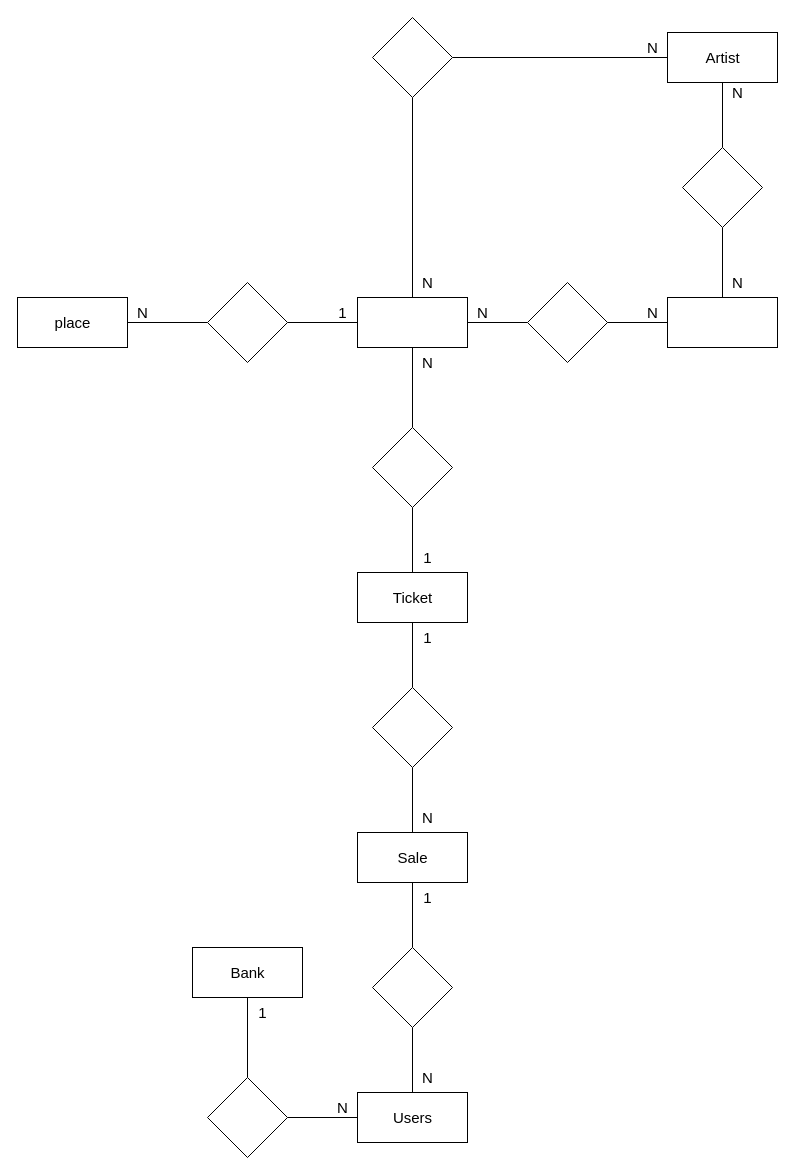
The diagram is 795 pixels wide and 1175 high, and some of its shapes have lost their labels. Each missing label, with the centre of its shape:
Band: point 722,322
Show: point 412,322
